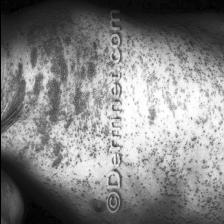Non-Cancerous Skin Condition: (127, 32, 224, 222), (9, 22, 106, 166)
